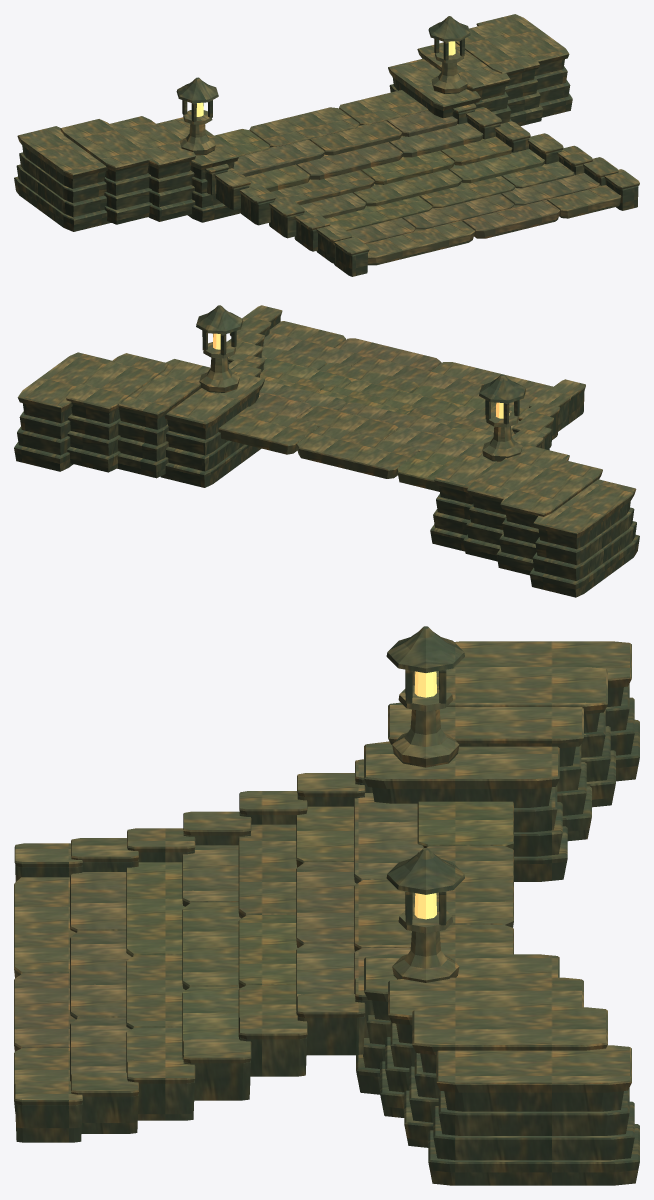
The model's file is gate-causeway.glb.
3 views of the same model, one above another, from view 1: azimuth 30°, elevation 25°; view 2: azimuth 150°, elevation 25°; view 3: azimuth 270°, elevation 25° (orthographic). The views are drawn at different scales.
Visible parts, largest first — view 1: Gate causeway; view 2: Gate causeway; view 3: Gate causeway.
Boxes of the visible parts, box(x1,y1,x2,y2) form: Gate causeway: box(14, 14, 639, 276); Gate causeway: box(14, 305, 639, 597); Gate causeway: box(14, 626, 639, 1185).
Bounding box in the file's own units: 13.1 × 3.18 × 7.81.
2 materials, 1 textured.
